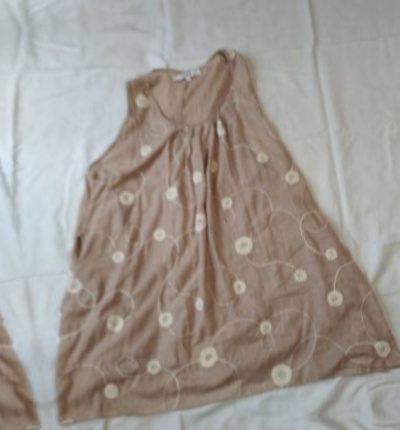Dress: (0, 10, 400, 430), (0, 71, 47, 430), (63, 414, 400, 430)
